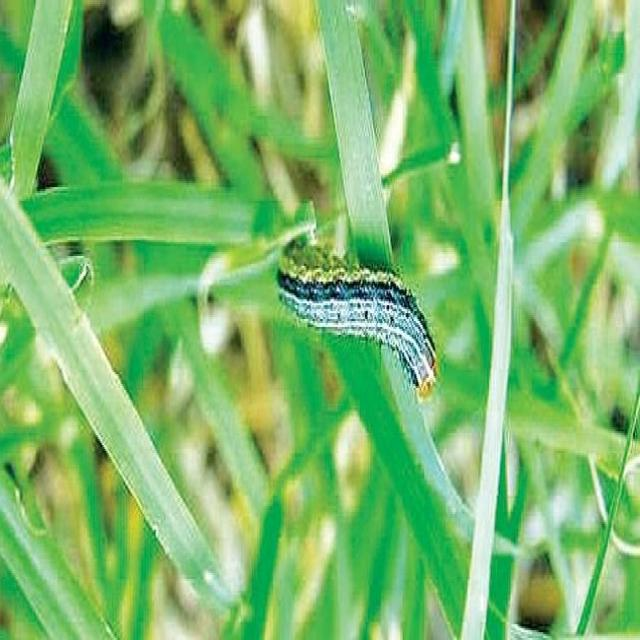army worm: (271, 249, 443, 407)
